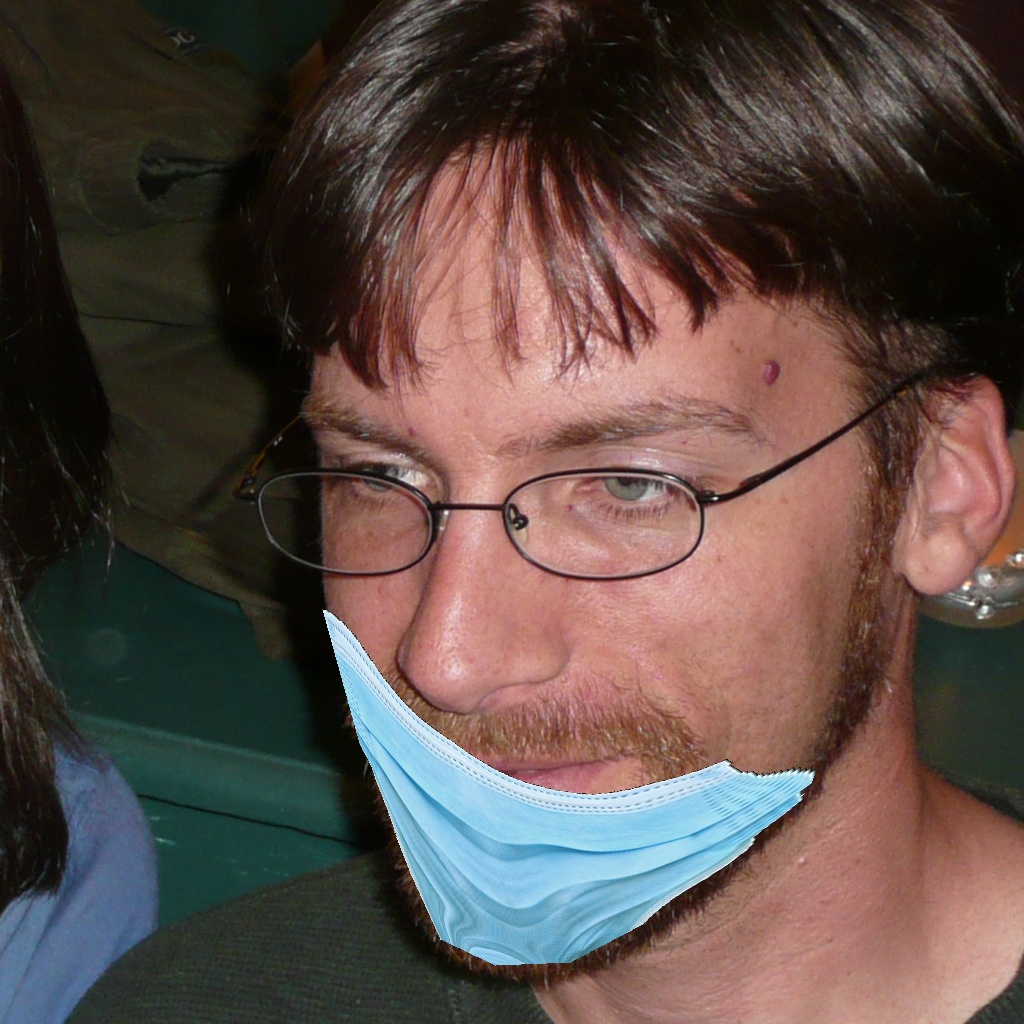mask_weared_incorrect: (266, 366, 898, 980)
